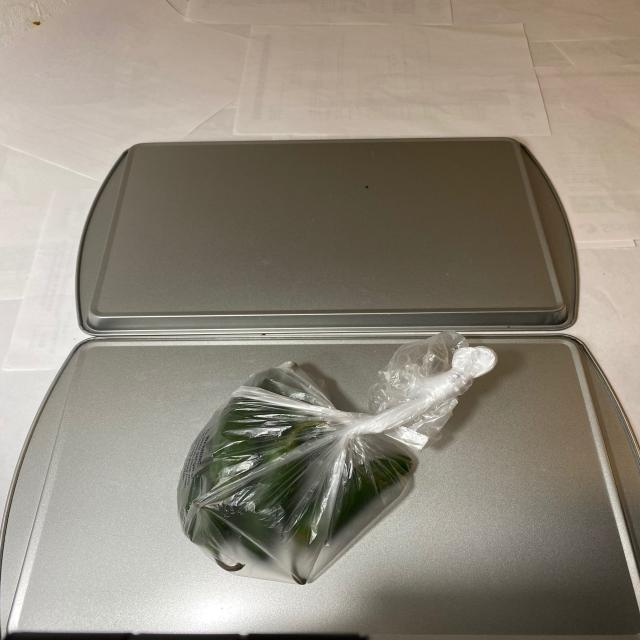chilli: (177, 366, 411, 586)
